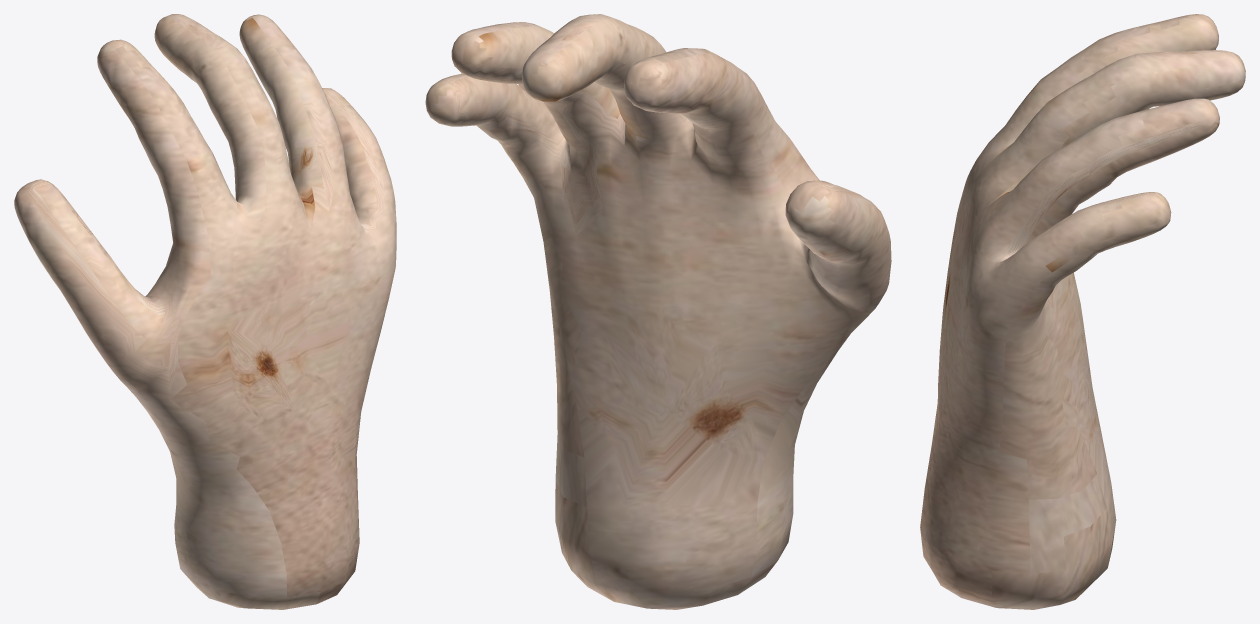
Rendered from hand3.obj.
The picture shows the model from 3 angles, left to right: view 1: azimuth 30°, elevation 25°; view 2: azimuth 150°, elevation 25°; view 3: azimuth 270°, elevation 25°; orthographic projection. The views are drawn at different scales.
Visible parts, largest first — view 1: Cube.001; view 2: Cube.001; view 3: Cube.001.
Boxes of the visible parts, x1,y1,x2,y2 form: Cube.001: (14, 14, 396, 609); Cube.001: (425, 14, 891, 609); Cube.001: (920, 14, 1245, 609).
Bounding box in the file's own units: 3.68 × 5.36 × 2.93.
